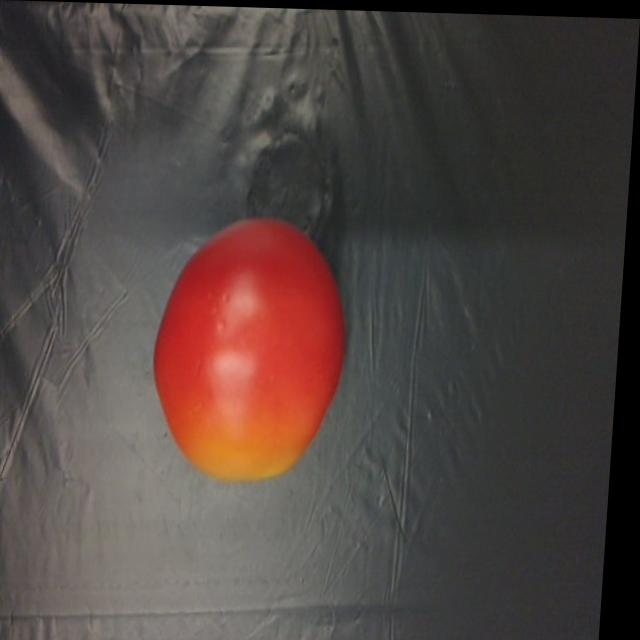sari: (129, 202, 388, 489)
